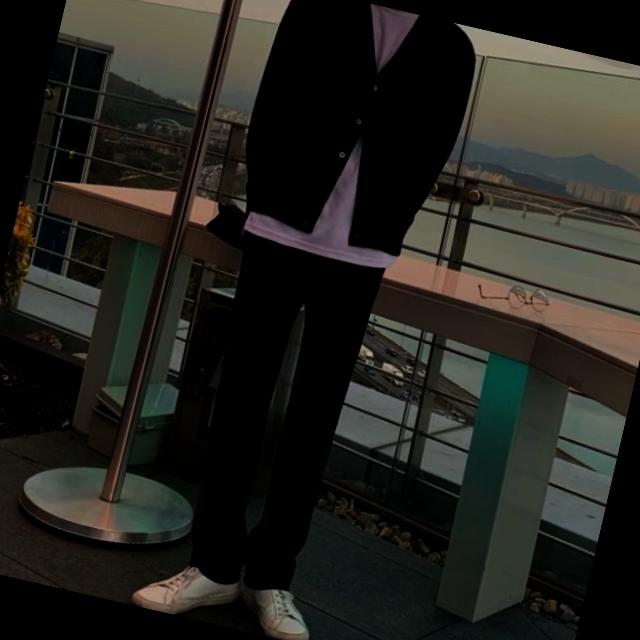cardigan: (225, 0, 482, 264)
slacks: (162, 201, 392, 612)
